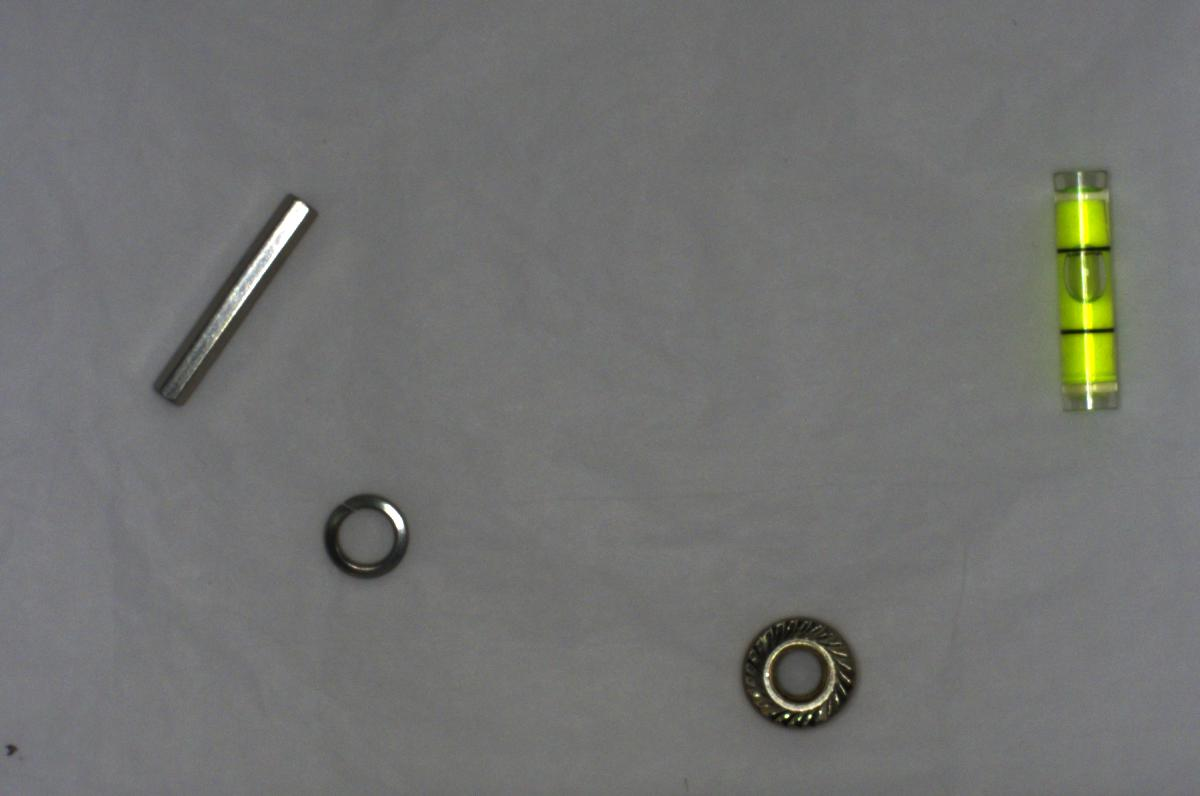Double hexagonal column: (142, 187, 322, 405)
Flange nut: (726, 609, 866, 735)
Horizontal bubble: (1044, 158, 1135, 427)
Spring washer: (307, 480, 414, 587)
